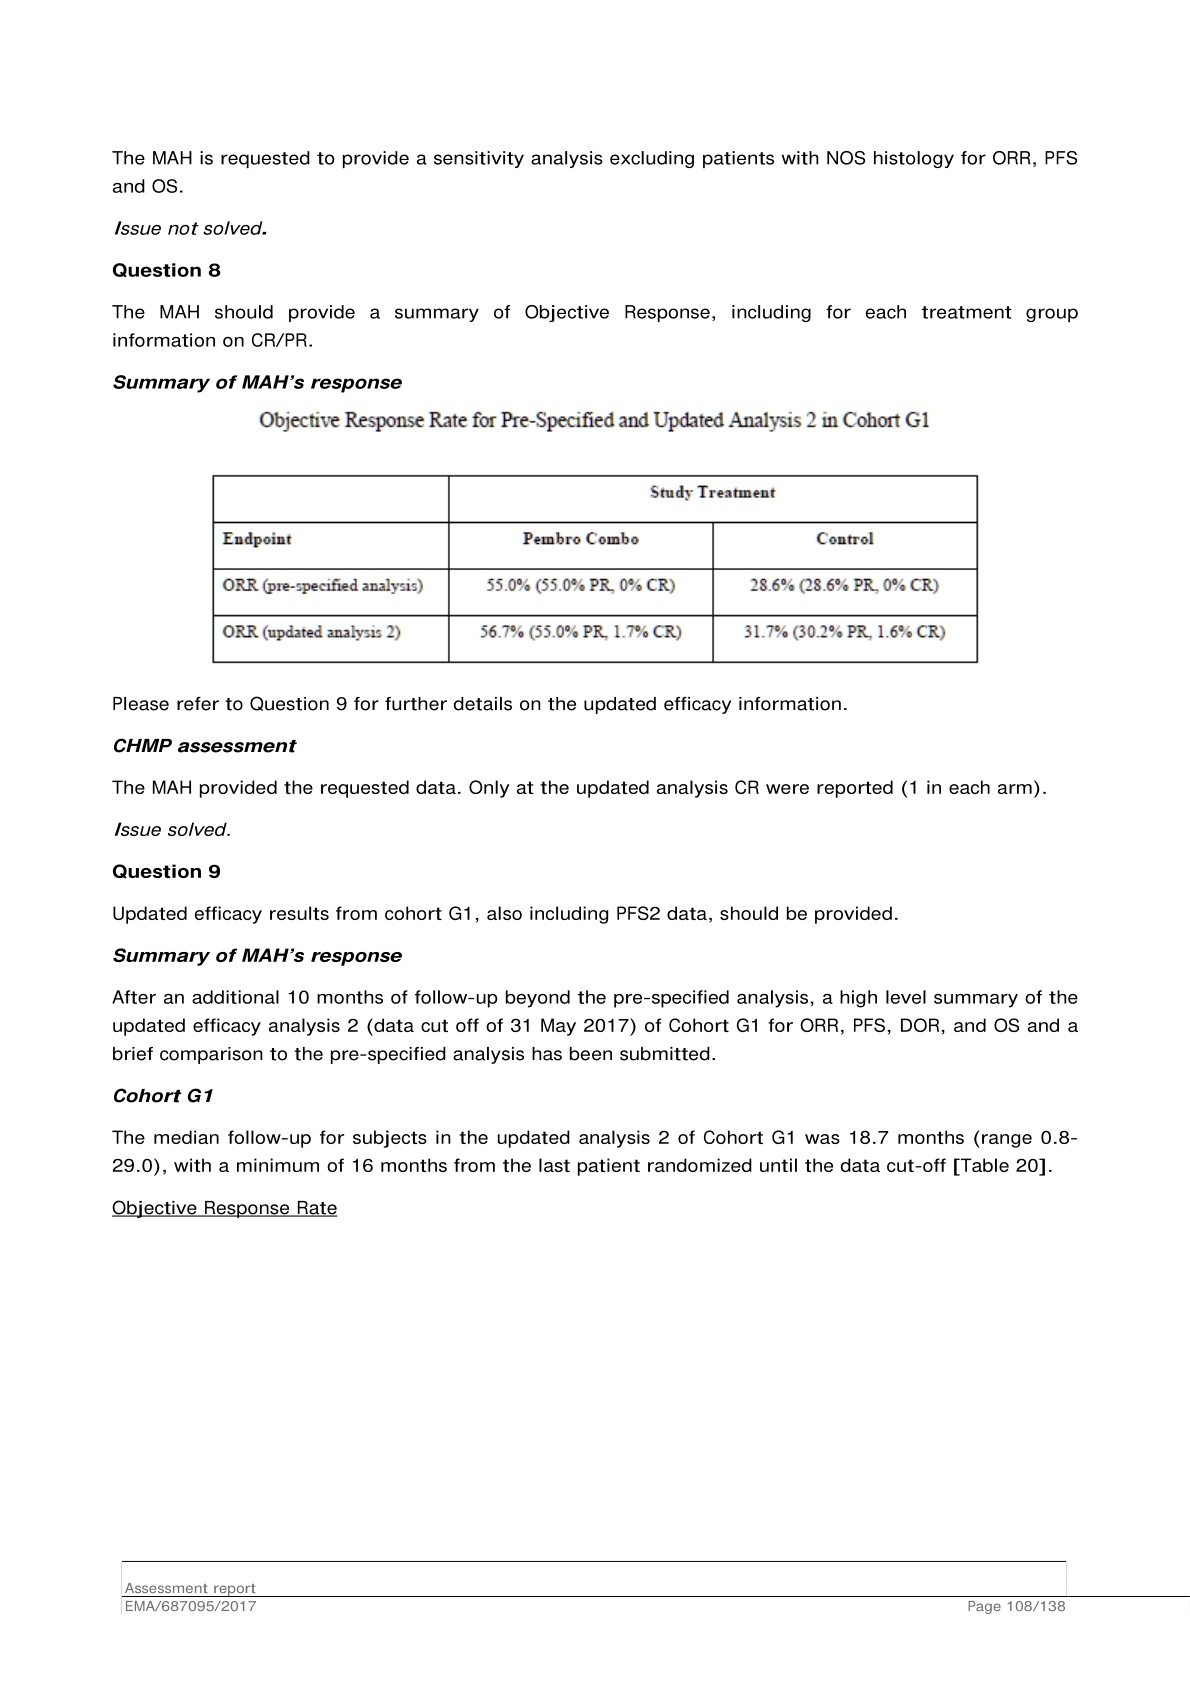merged_cells: (211, 473, 979, 665)
